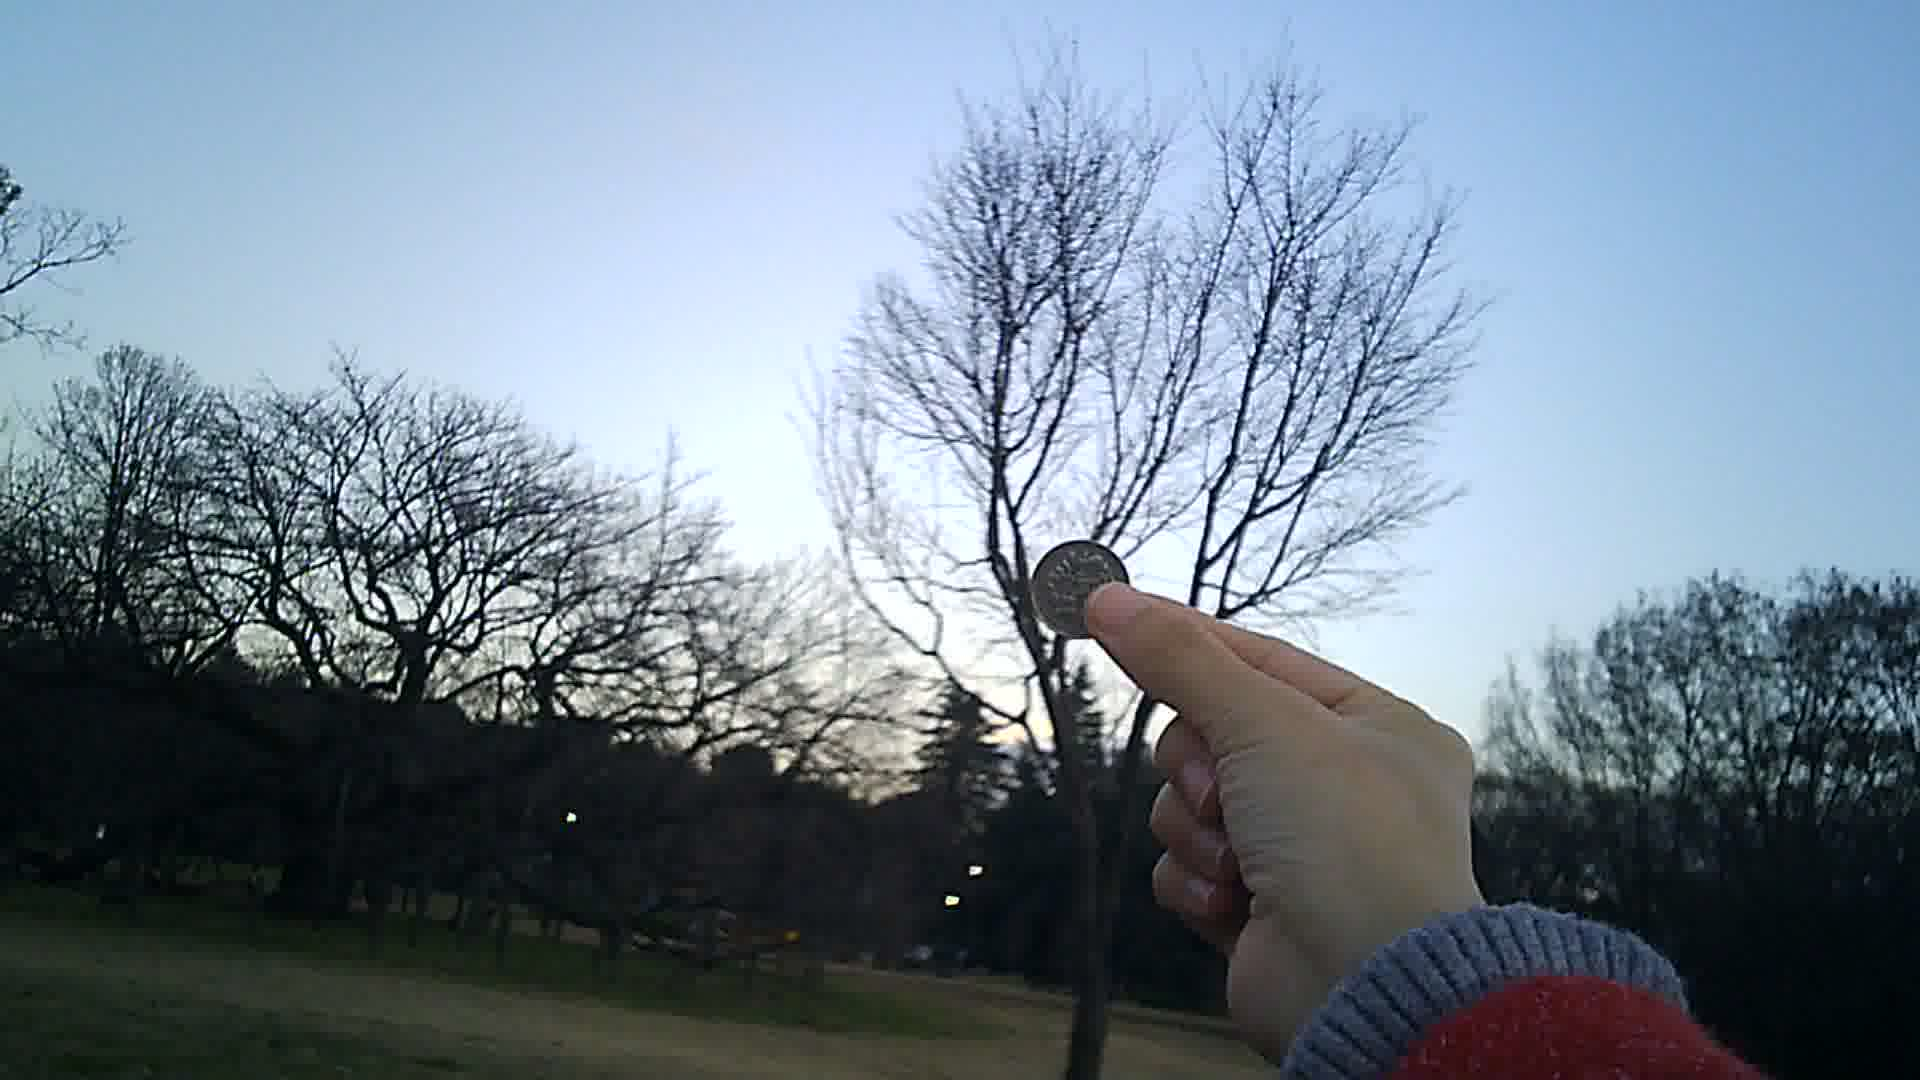100 Yen: (1029, 535, 1135, 640)
